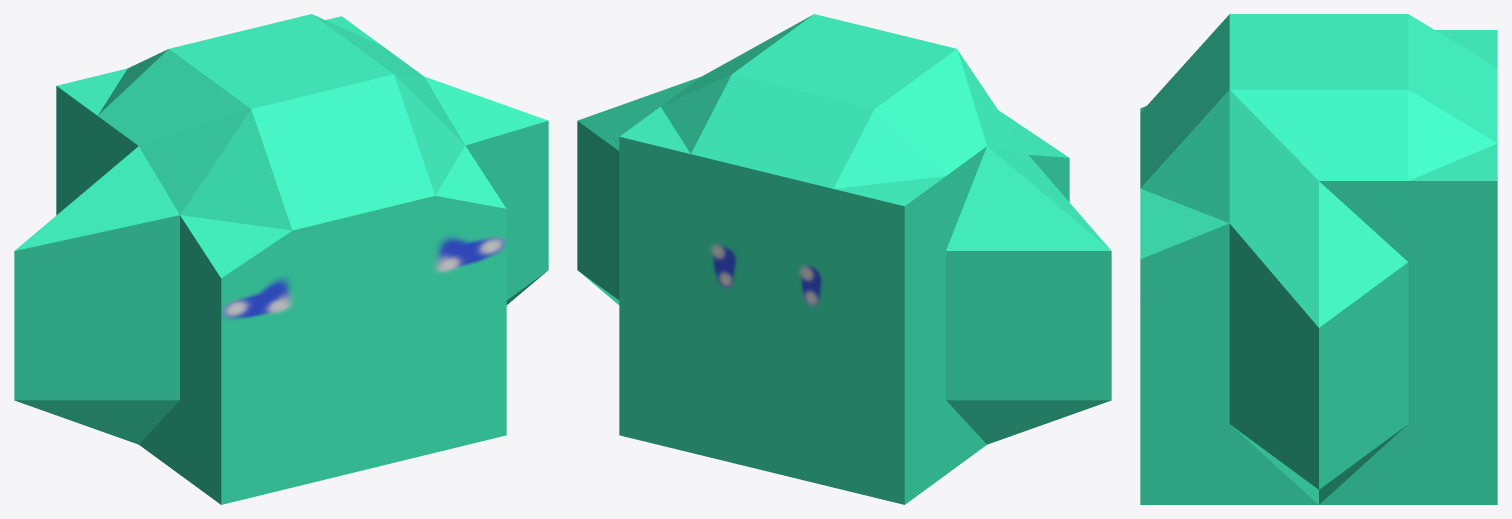
The model's file is enemy.obj.
The picture shows the model from 3 angles, left to right: view 1: azimuth 30°, elevation 25°; view 2: azimuth 150°, elevation 25°; view 3: azimuth 270°, elevation 25°; orthographic projection. The views are drawn at different scales.
Visible parts, largest first — view 1: Cube; view 2: Cube; view 3: Cube.
Boxes of the visible parts, box(x1,y1,x2,y2) form: Cube: box(14, 14, 548, 504); Cube: box(577, 14, 1111, 504); Cube: box(1140, 14, 1497, 504).
Bounding box in the file's own units: 3.75 × 2.33 × 2.
Materials: 1 (1 with a texture image).
